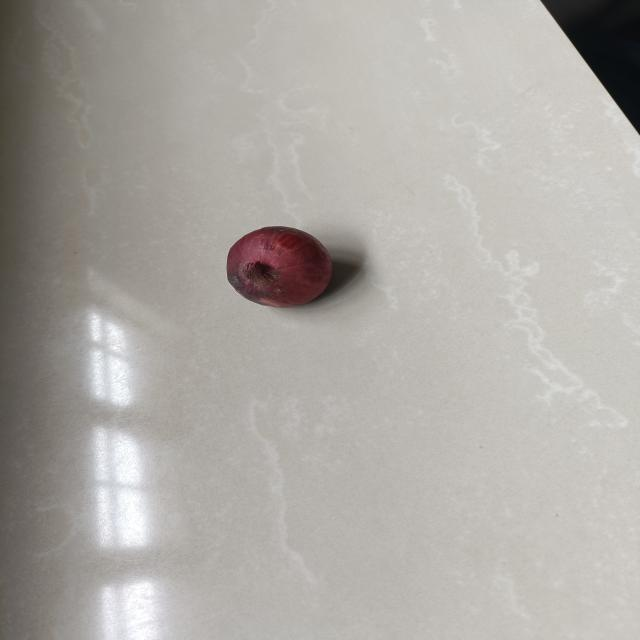onion: (222, 225, 336, 310)
